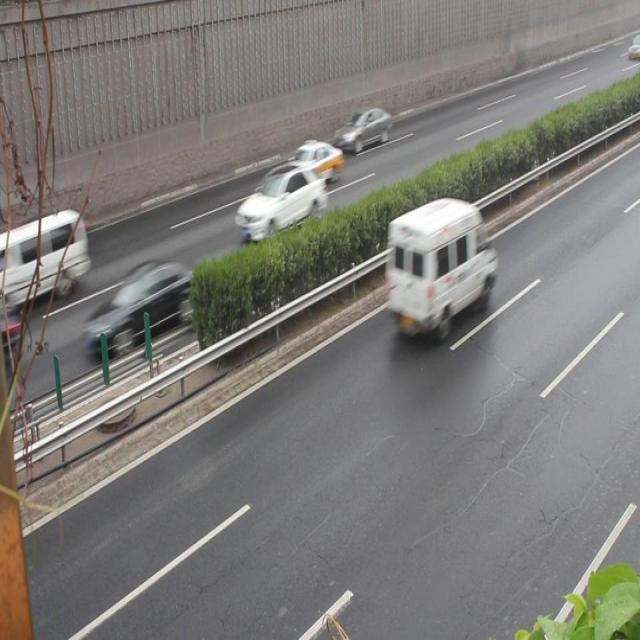car: (384, 194, 494, 332), (84, 257, 203, 351), (233, 160, 324, 241), (274, 139, 342, 187), (332, 105, 390, 153)
